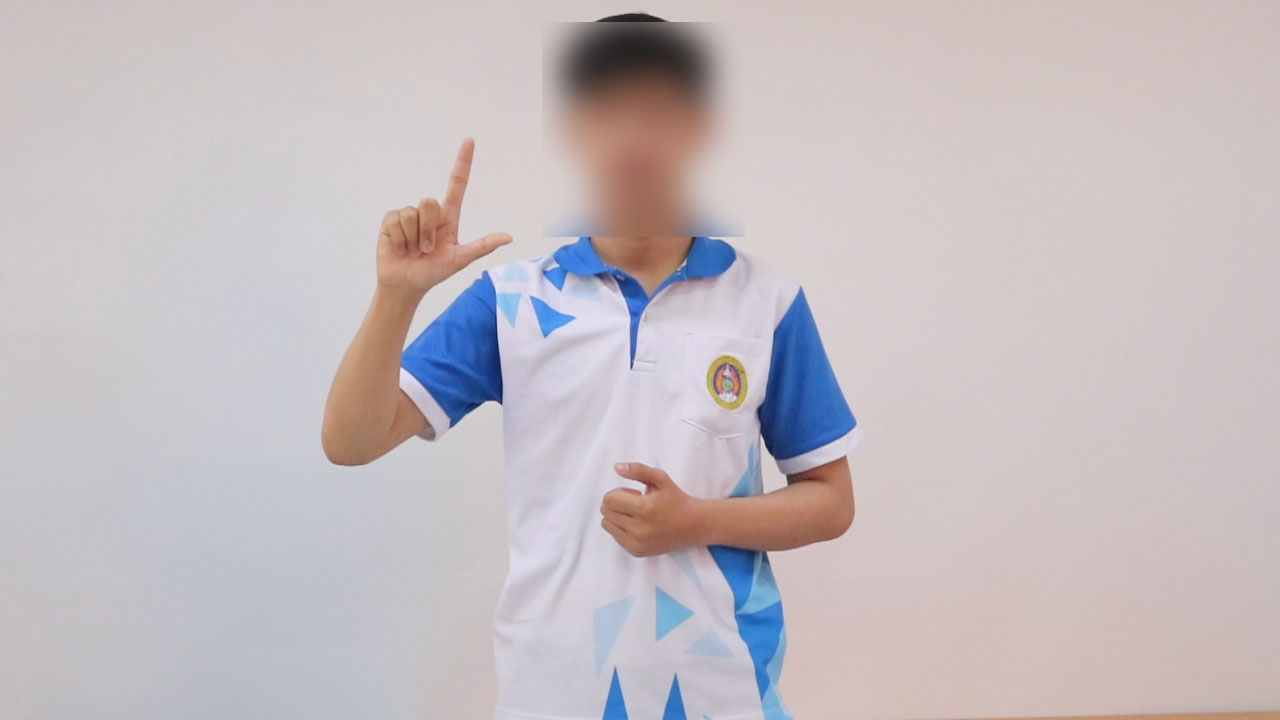lor: (356, 133, 535, 280)
